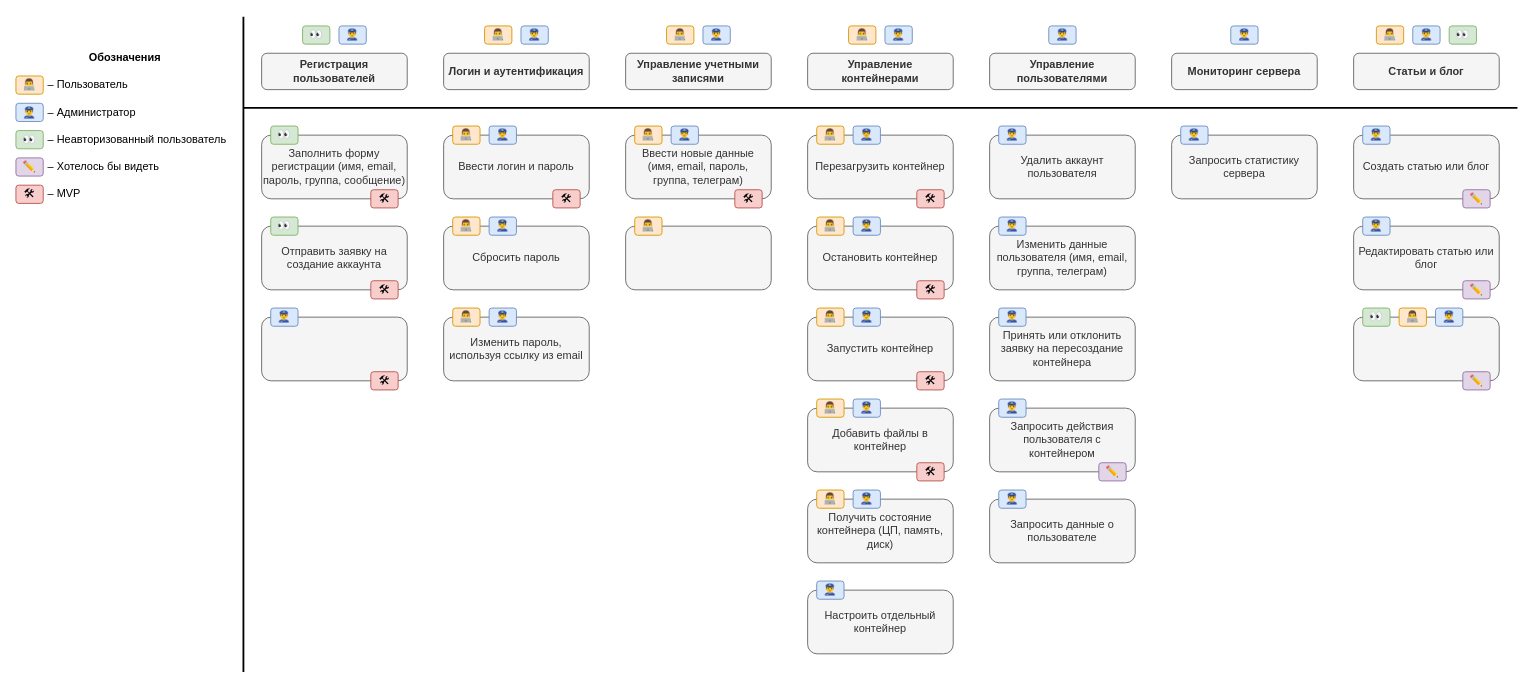
This 1535x689 diagram has some shape labels left out. The shapes that lost their labels are listed below. From the top down, each one's box as (x1, y1, x2, y2) in pixels, then its label:
(625, 225, 771, 290): Оставить заявку на пересоздание контейнера
(261, 316, 407, 381): Принять или отклонить заявку на подтверждение регистрации пользователя
(1353, 316, 1499, 381): Прочитать статью или блог
